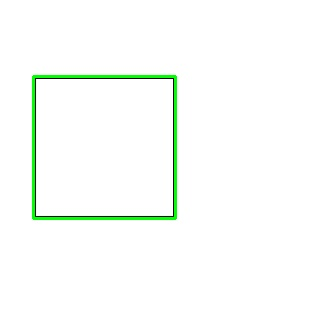line_segment: (32, 75, 177, 220)
